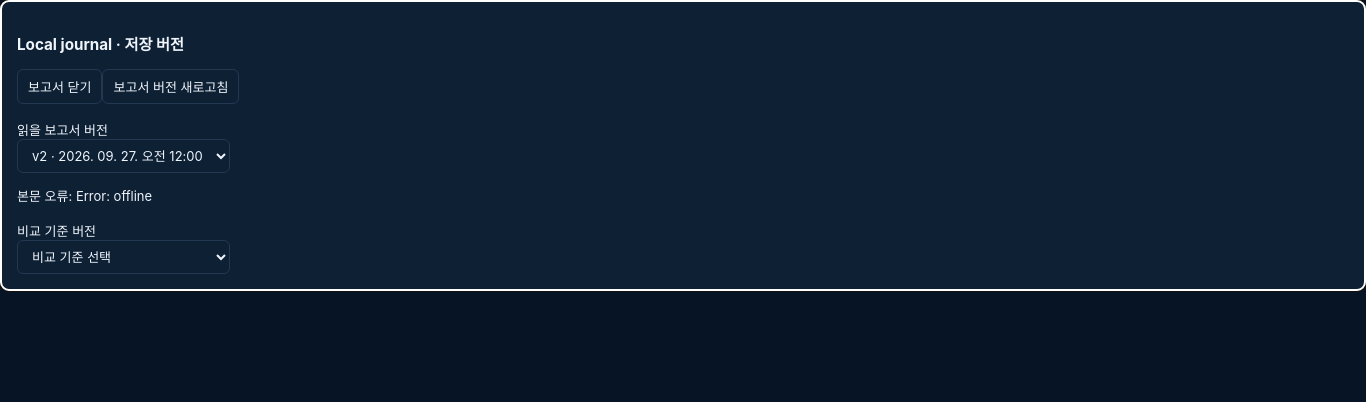
Test case: keeps damaged snapshot and load errors visible and retries the same selection
Check: the message "본문 오류: Error: offline" is shown, box [17,188,152,204]
Click the button "보고서 버전 새로고침" at (171, 87), box [102,69,240,104]
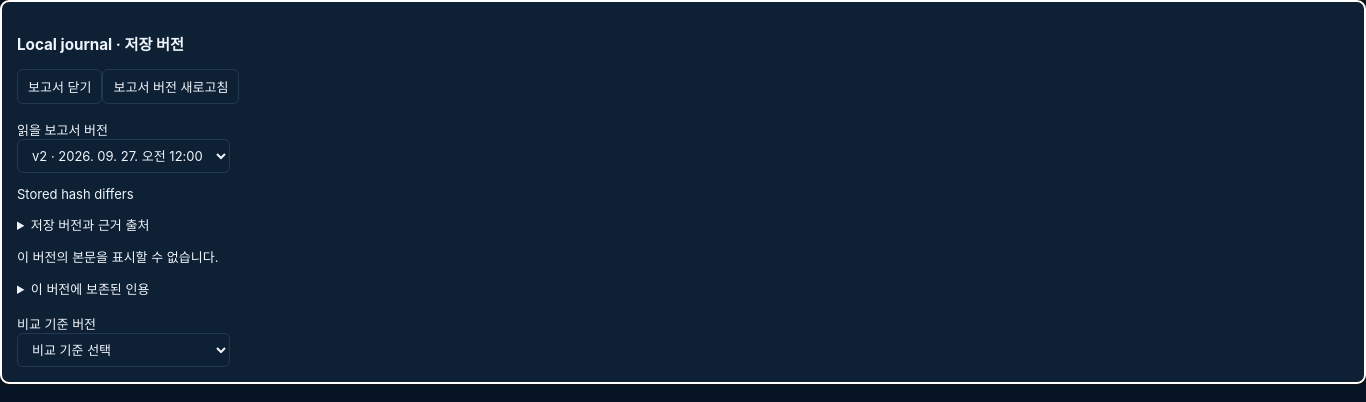
Check: the text "Stored hash differs" is shown, box [17,186,134,202]
Check: the text "이 버전의 본문을 표시할 수 없습니다." is shown, box [17,249,218,265]
